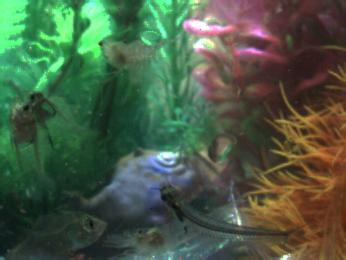X-ray fish: (13, 208, 108, 258), (27, 89, 102, 148), (8, 101, 49, 179)
glassfish: (157, 179, 305, 245)
siberian prawn: (115, 219, 193, 260), (97, 36, 173, 76)
